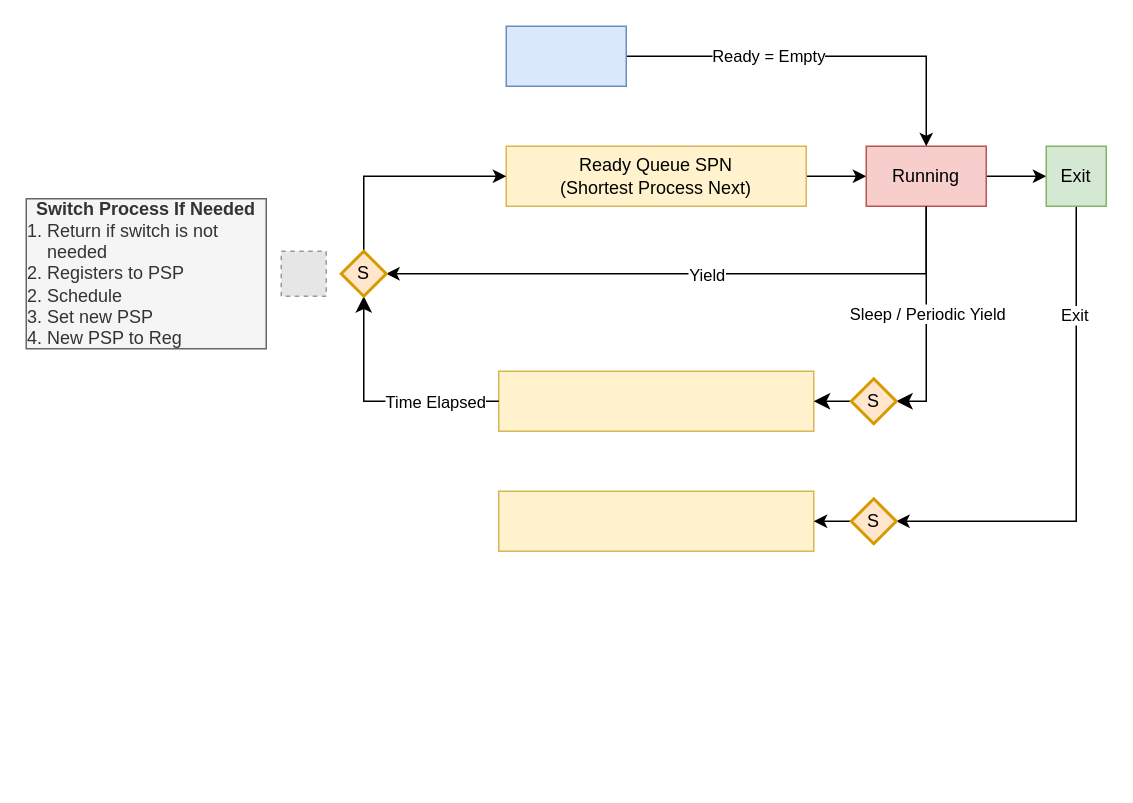
This 1133x803 diagram has some shape labels left out. Grey dashed boxes stand in for pictures. The box of each missing label's shape, as (x1, y1, x2, y2) in pixels:
Dormant Queue: (497, 490, 814, 551)
Null Task: (505, 25, 626, 86)
Sleeping Queue: (497, 370, 814, 431)
